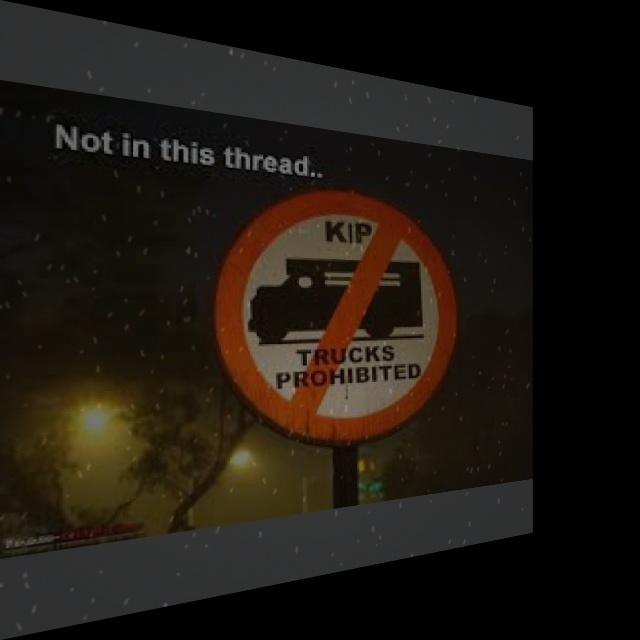Truck_Prohibited: (210, 176, 465, 460)
